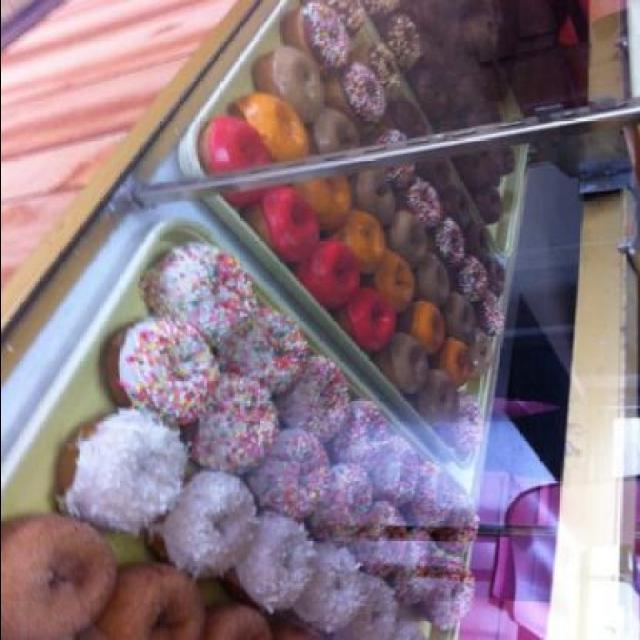Donuts: (7, 2, 530, 640)
